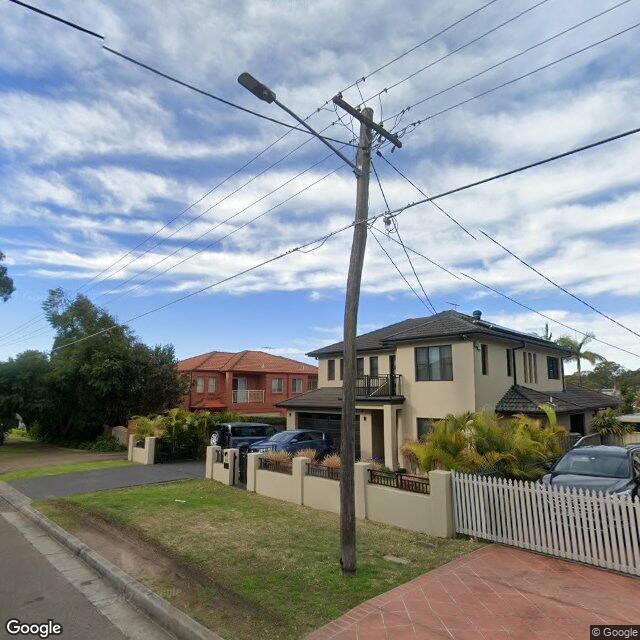crossarm: (332, 95, 403, 148)
streetlight: (237, 72, 361, 178)
timber-pole: (340, 106, 374, 576)
